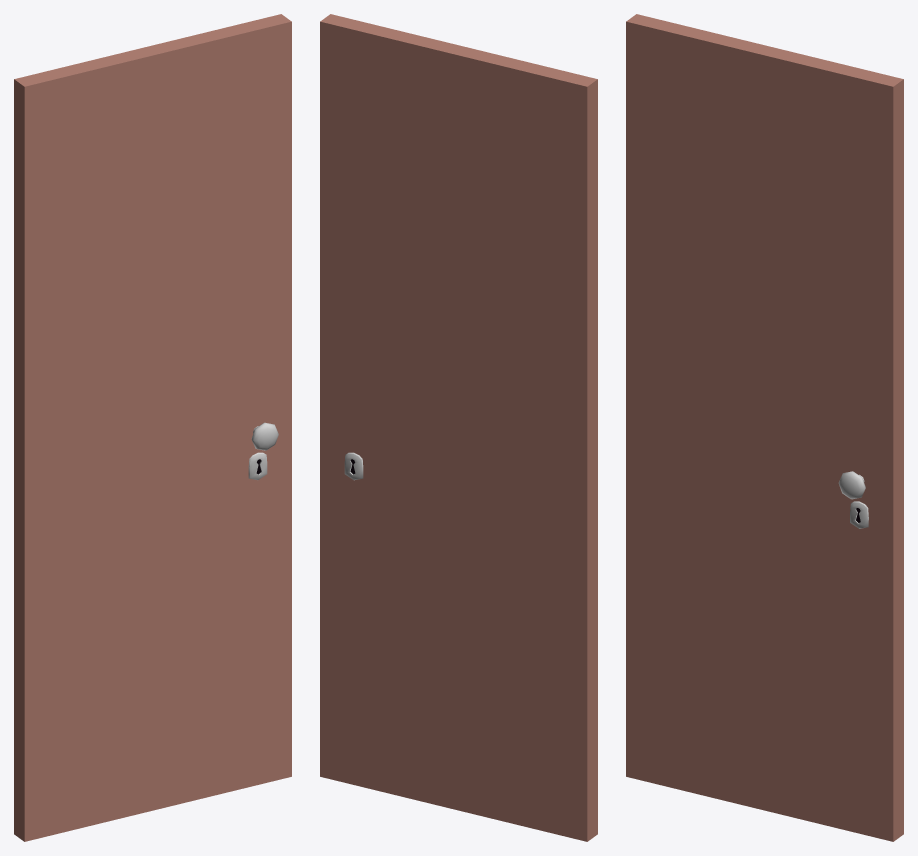
File: Door_OneWay.fbx
The picture shows the model from 3 angles, left to right: view 1: azimuth 30°, elevation 25°; view 2: azimuth 150°, elevation 25°; view 3: azimuth 330°, elevation 25°; orthographic projection.
Parts seen in each view (by area): view 1: Door_OneWay; view 2: Door_OneWay; view 3: Door_OneWay.
Part boxes in pixels (bbox=[...]): Door_OneWay: bbox=[14, 14, 291, 841]; Door_OneWay: bbox=[320, 14, 597, 841]; Door_OneWay: bbox=[626, 14, 903, 841].
Bounding box in the file's own units: 1 × 2.7 × 0.1464.
